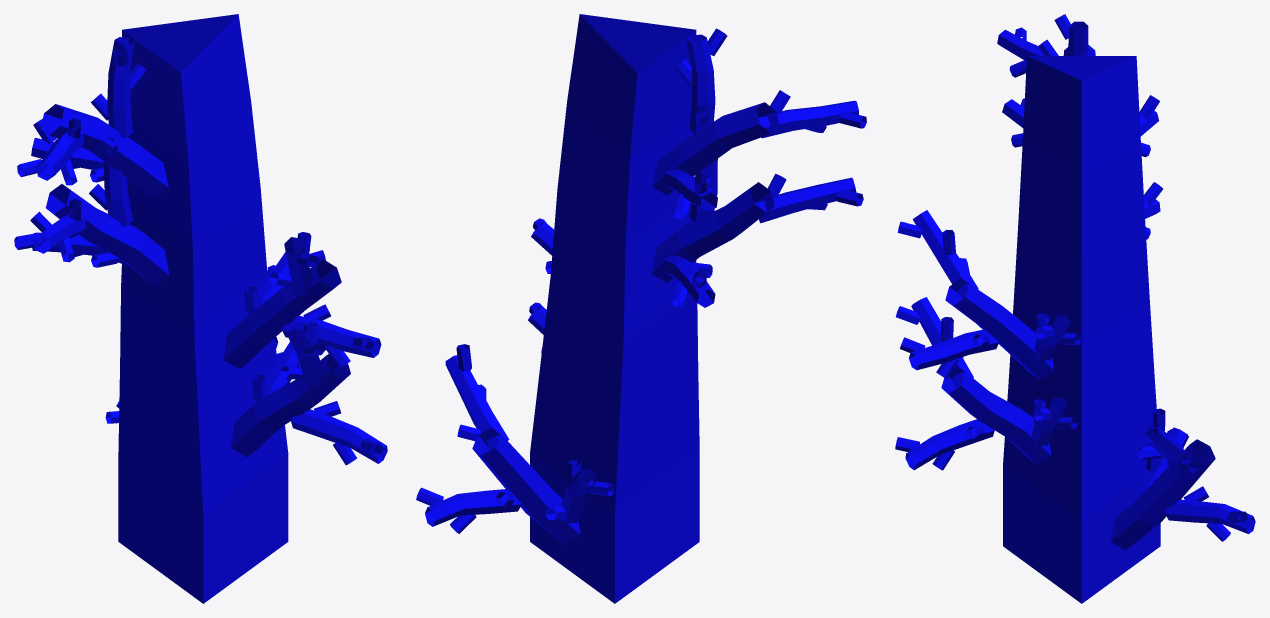
3 renders of one model, left to right at view 1: azimuth 30°, elevation 25°; view 2: azimuth 150°, elevation 25°; view 3: azimuth 270°, elevation 25°, orthographic. The views are drawn at different scales.
Parts seen in each view (by area): view 1: Cube; view 2: Cube; view 3: Cube.
Part boxes in pixels (left/top/right/bottom): Cube: left=14, top=14, right=387, bottom=603; Cube: left=416, top=14, right=866, bottom=603; Cube: left=895, top=14, right=1255, bottom=603.
Size of the model in its own units: 4.07 by 6.17 by 3.96.
